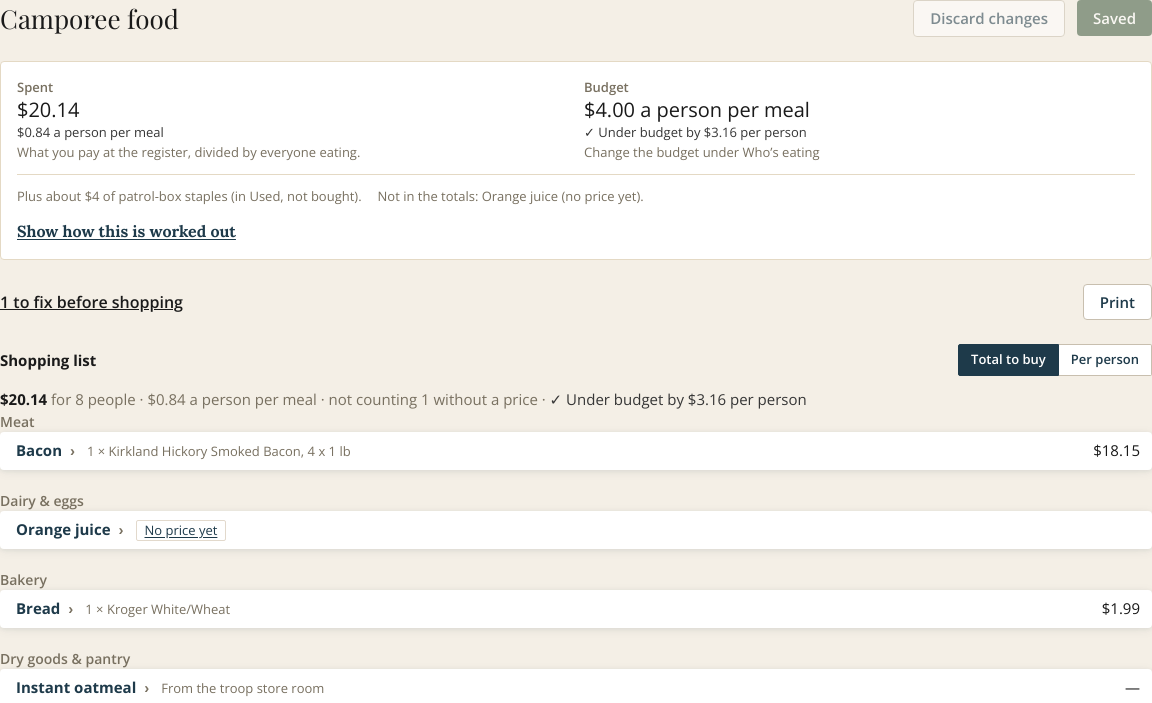
Test: ShoppingTab › inset disclosure › Row_OpensWhenTheRowItselfIsClicked_NotOnlyTheName
This screenshot has width=1152, height=703.
Step 1. Click the text "1 × Kirkland Hickory Smoked Bacon, 4 x 1 lb" → (219, 452), box [87,442,351,462]
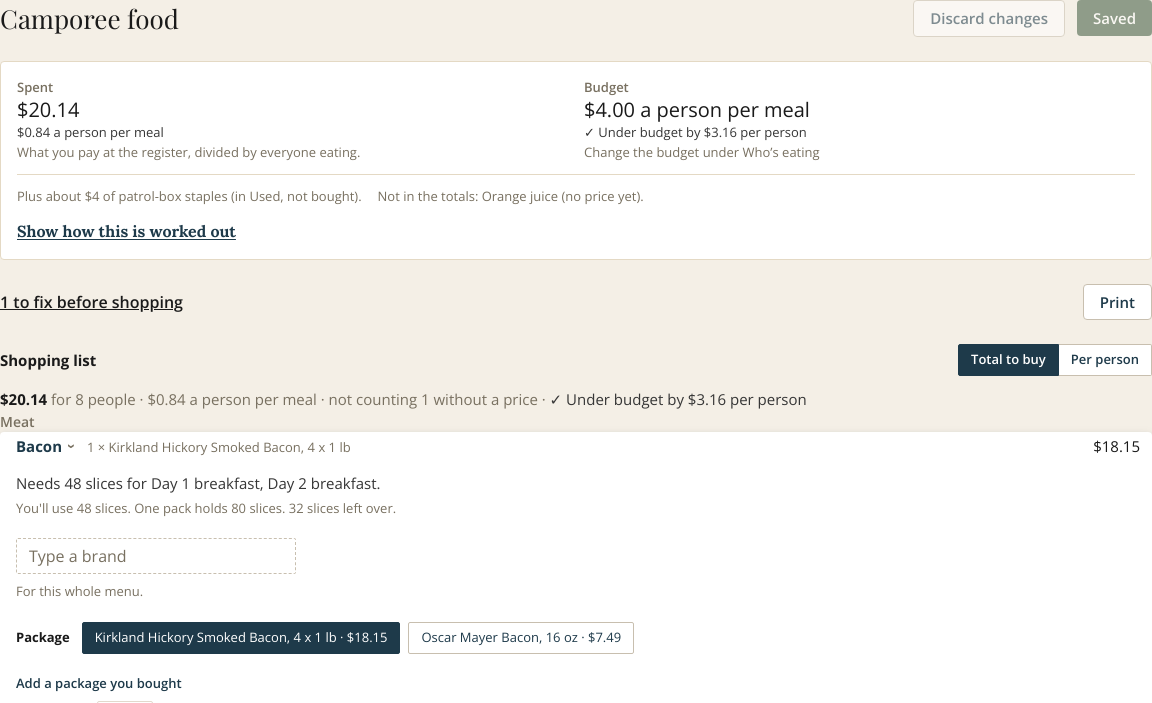
Expected: the button "Bacon ›" is expanded, [16,434,75,457]
